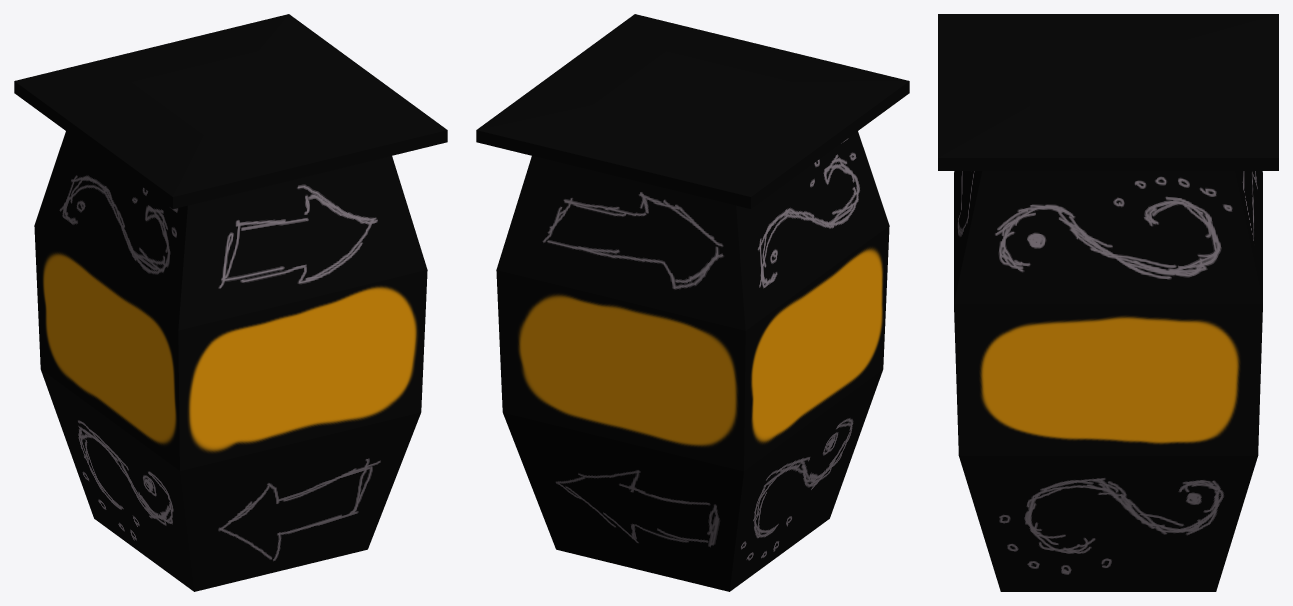
File: lanterne.fbx
The picture shows the model from 3 angles, left to right: view 1: azimuth 30°, elevation 25°; view 2: azimuth 150°, elevation 25°; view 3: azimuth 270°, elevation 25°; orthographic projection. The views are drawn at different scales.
Parts seen in each view (by area): view 1: Cube; view 2: Cube; view 3: Cube.
Boxes of the visible parts, box(x1,y1,x2,y2) form: Cube: box(14, 14, 447, 591); Cube: box(476, 14, 909, 591); Cube: box(938, 14, 1278, 591).
Bounding box in the file's own units: 201 × 308 × 201.
1 material, 1 textured.
